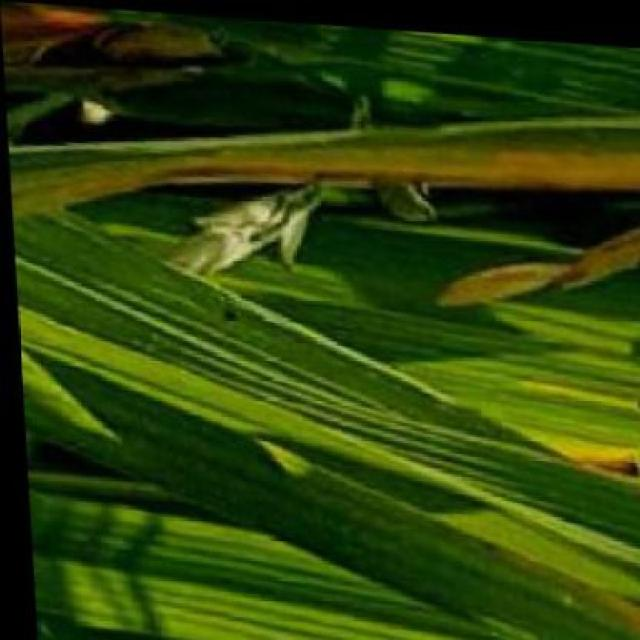Brown_Spot: (38, 93, 640, 249)
